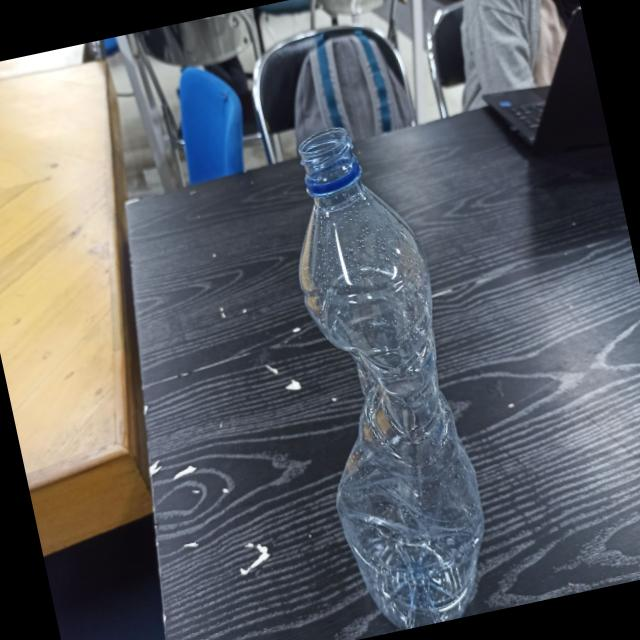BotolPlastik: (258, 111, 504, 636)
